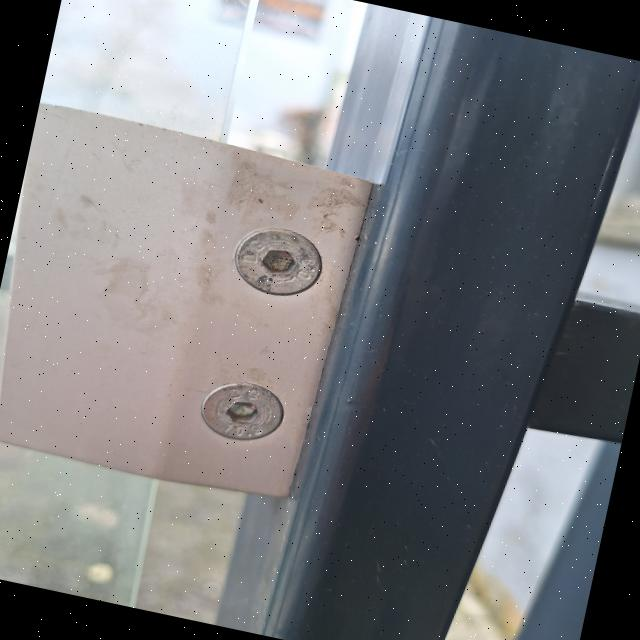Hex Socket Allen: (235, 223, 332, 307), (208, 378, 282, 447)
